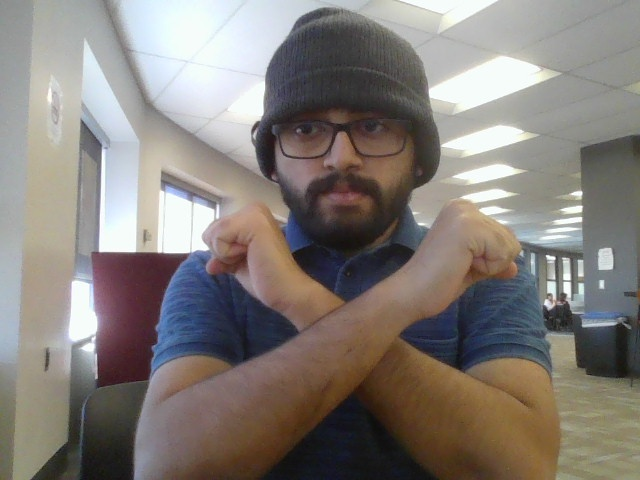cancel: (184, 190, 526, 429)
